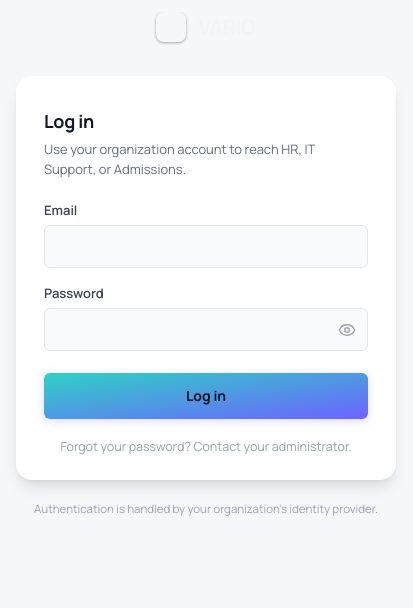
it: LoginForm › submitting invalid credentials shows error message
In the field labelled "Email": (206, 247) [44,225,368,268], type "wrong@org.example.com"
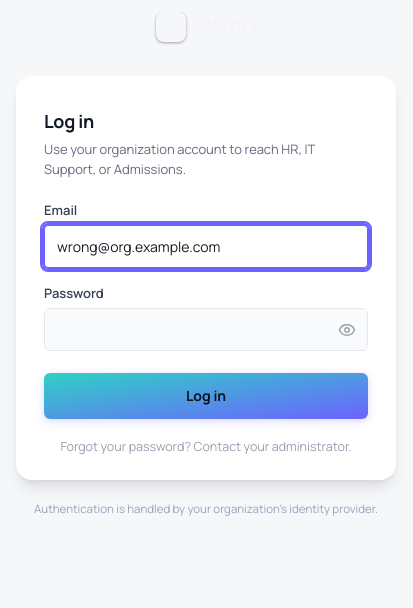
In the password field labelled "Password": (206, 330) [44,308,368,351], type "badpass"
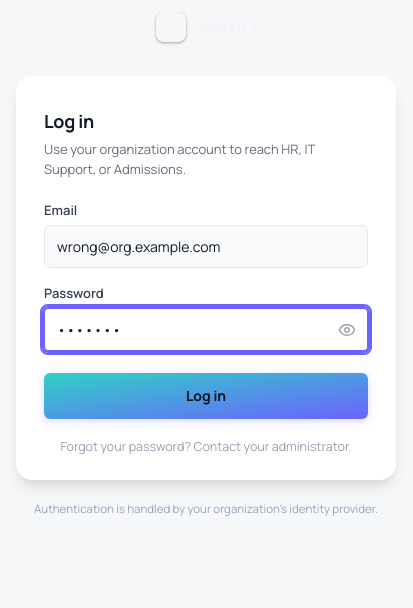
Click the button "Log in": (206, 396) [44,373,368,419]
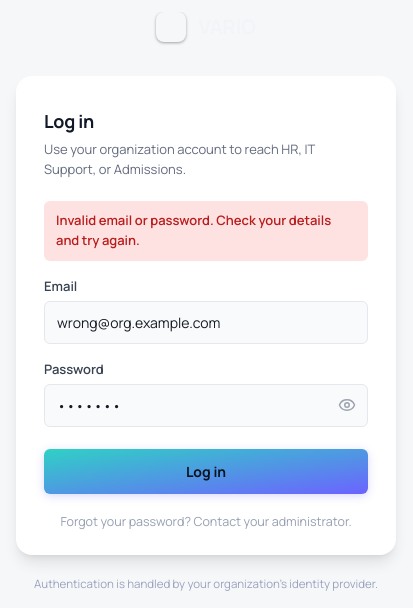
Expected: the button "Log in" is enabled, [44,449,368,494]
Now the text "Invalid email or password. Check your details and try again." is shown, box [44,201,368,261]
